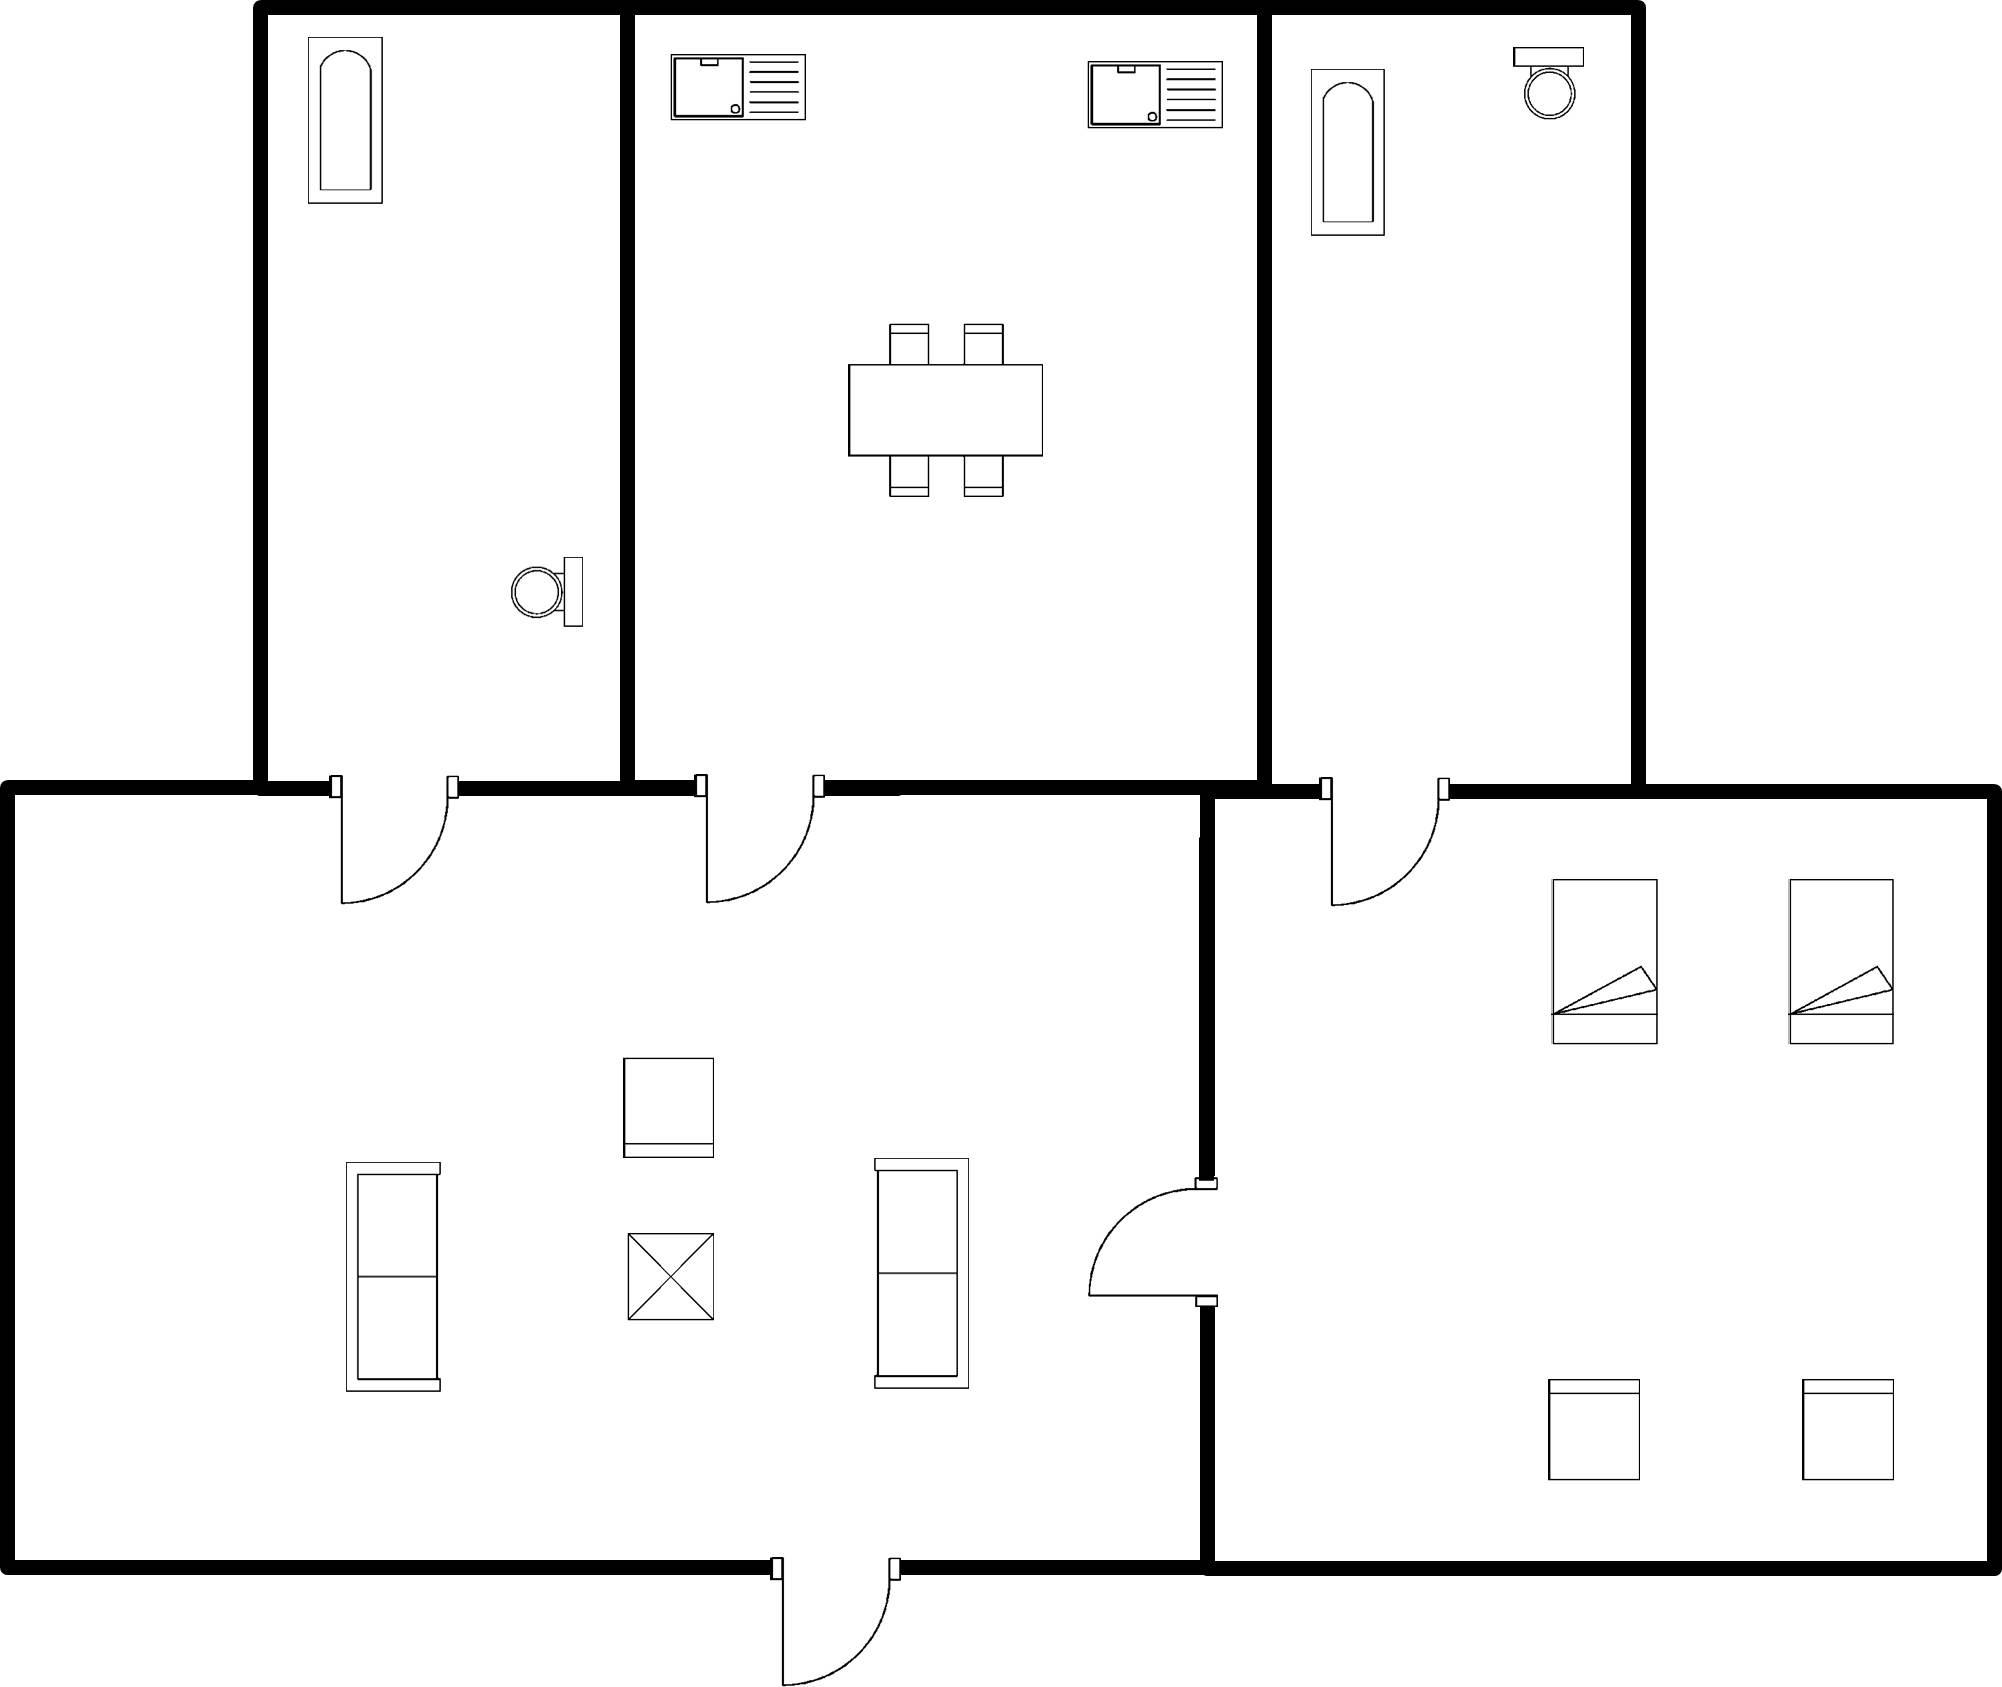bed: (1778, 869, 1907, 1063), (1538, 865, 1667, 1058)
dining_table: (825, 306, 1051, 514)
sink: (1076, 47, 1230, 144), (660, 42, 815, 137)
sofa: (854, 1140, 979, 1397), (330, 1145, 452, 1406)
toilet: (499, 542, 598, 643), (1495, 30, 1592, 131)
tub: (1297, 52, 1403, 258), (298, 27, 392, 221)
